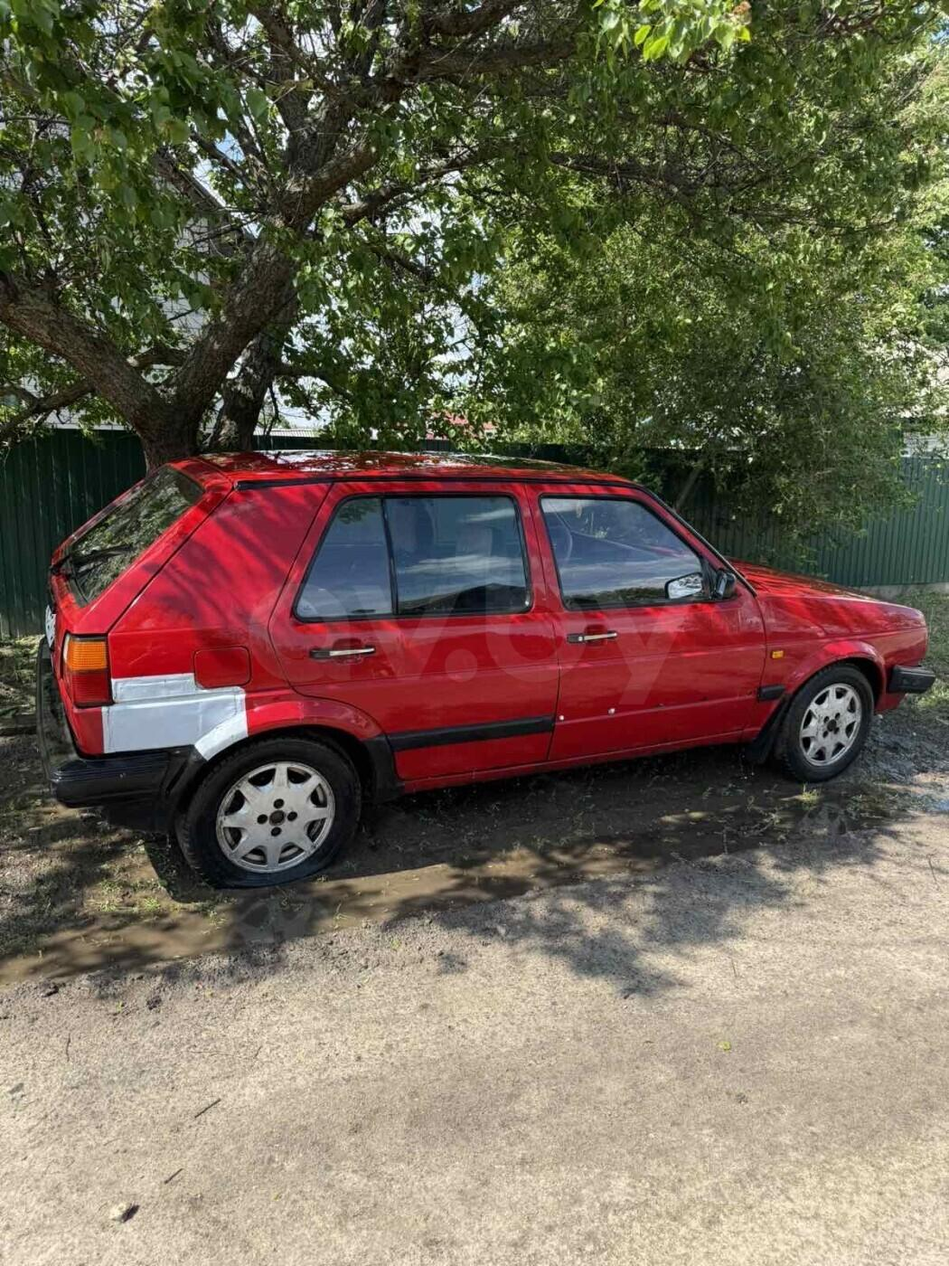Golf_1983-1992: (40, 434, 933, 884)
